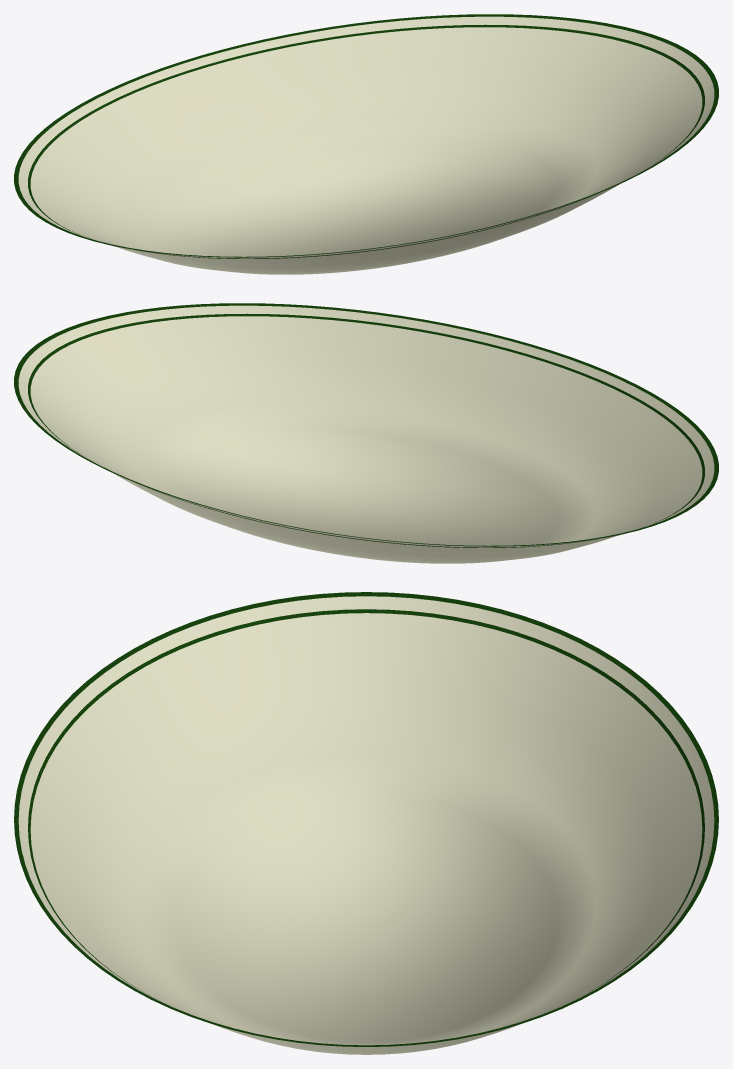
3 views of the same model, one above another, from view 1: azimuth 30°, elevation 25°; view 2: azimuth 150°, elevation 25°; view 3: azimuth 270°, elevation 25° (orthographic). The views are drawn at different scales.
Visible parts, largest first — view 1: Sphere, Sphere.001, Sphere.002; view 2: Sphere, Sphere.001, Sphere.002; view 3: Sphere, Sphere.001, Sphere.002.
Part boxes in pixels (x1,y1,x2,y2): Sphere: (18,16,714,274); Sphere.001: (14,14,718,257); Sphere.002: (28,24,704,258); Sphere: (18,305,714,563); Sphere.001: (14,303,718,546); Sphere.002: (28,313,704,547); Sphere: (18,596,714,1054); Sphere.001: (14,592,718,1046); Sphere.002: (28,609,704,1007).
Bounding box in the file's own units: 0.2771 × 0.0313 × 0.1814.
